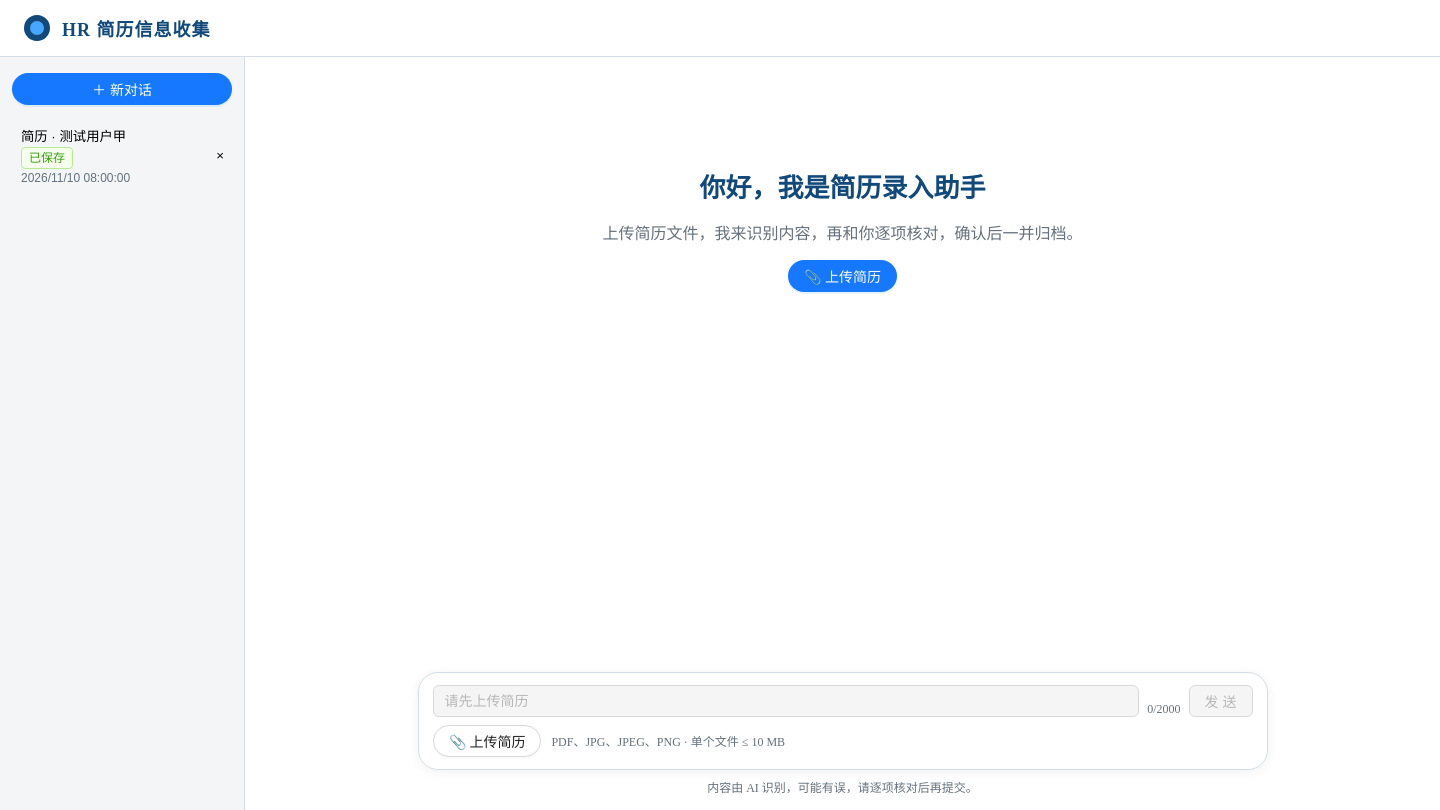
Test: update diff card (REQ-FE-09.2, red line: clears must be listed) › opens from the quick reply without any request and lists the cleared field as "将被清空"
This screenshot has width=1440, height=810.
Click the button "简历 · 测试用户甲 已保存 2026/11/10 08:00:00": (108, 156) [12,117,204,194]
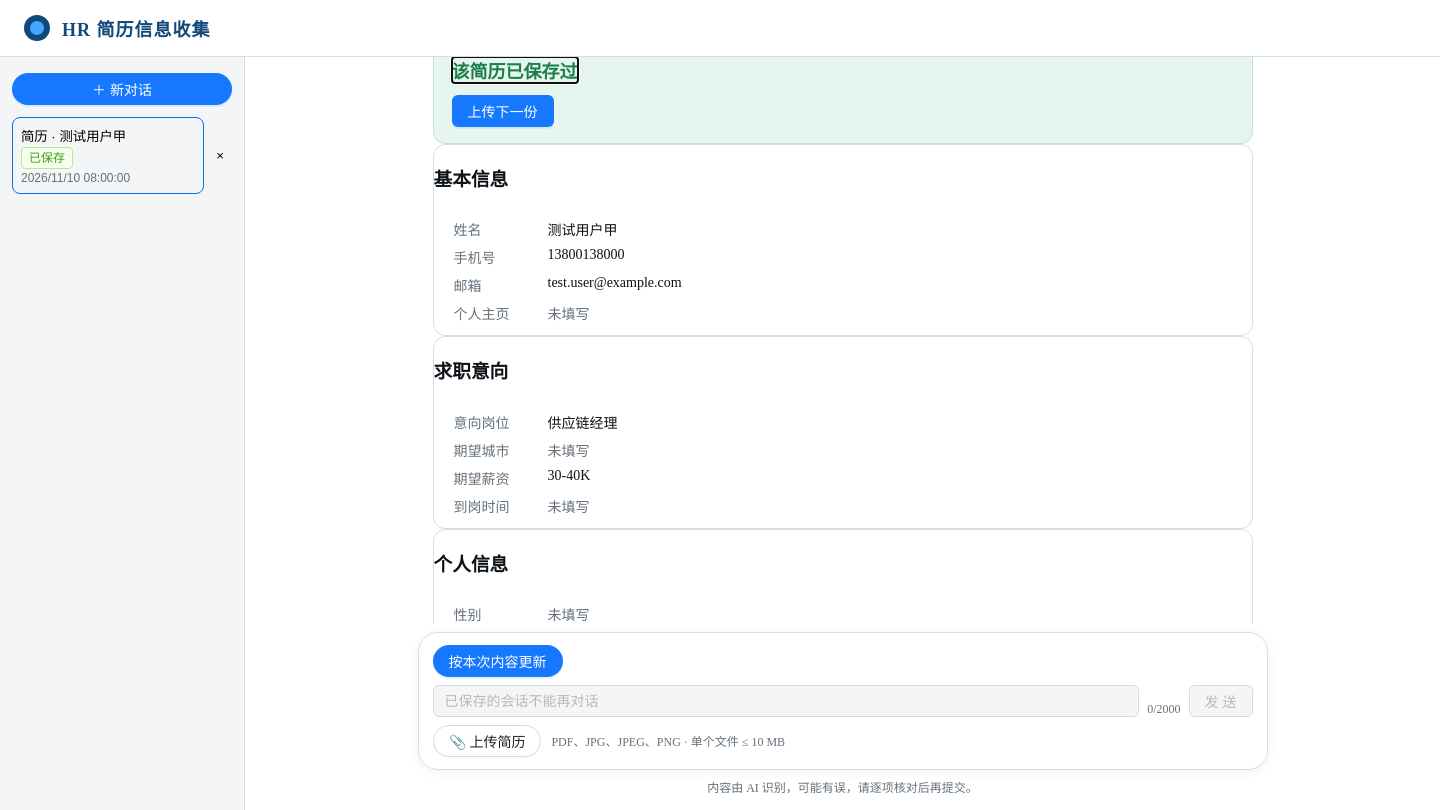
Now the text "该简历已保存过" is shown, box [452,57,578,83]
Click the button "按本次内容更新": (498, 661) [432,645,562,677]
(page scrolled)
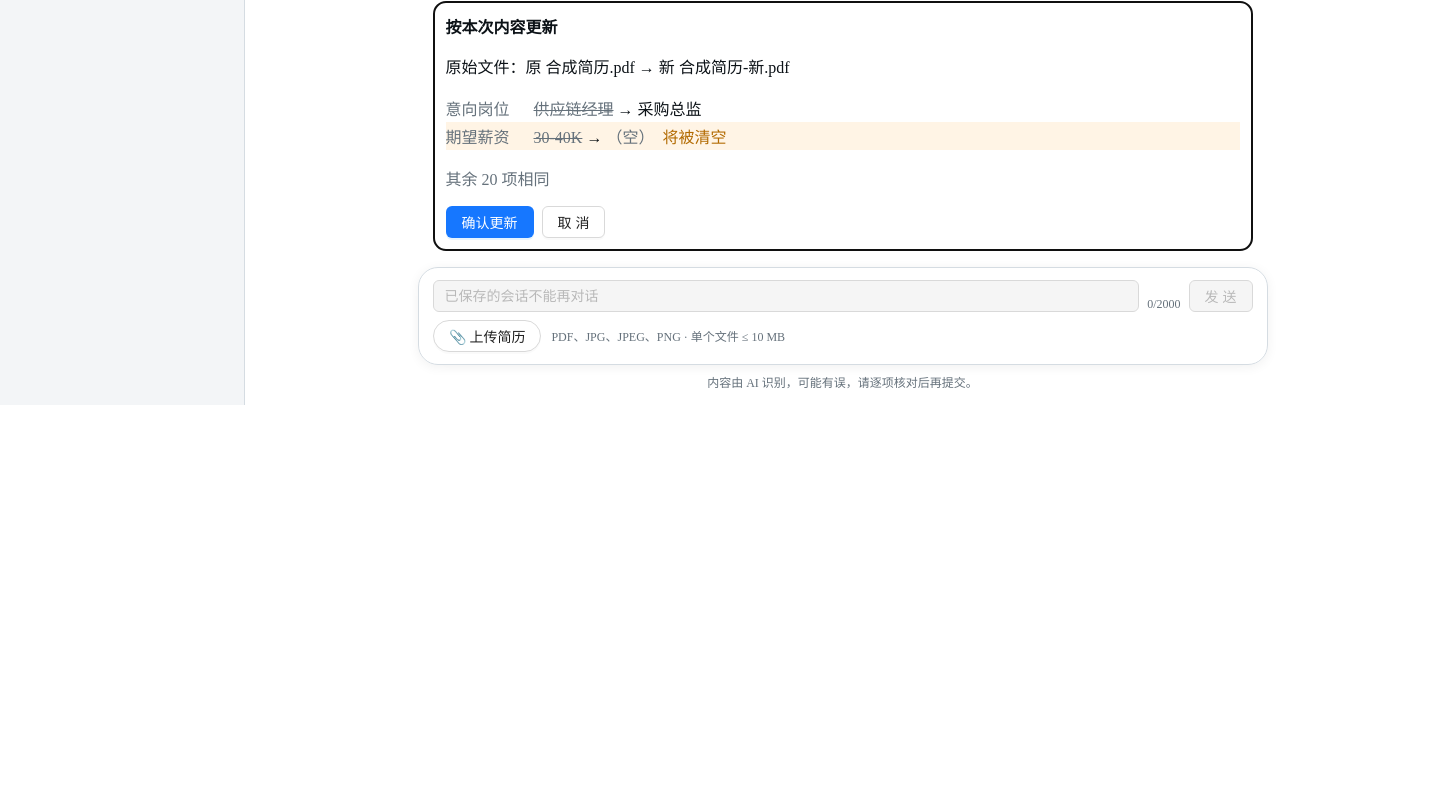
Now the text "原始文件：原 合成简历.pdf → 新 合成简历-新.pdf" is shown, box [446,59,790,76]
Now the text "将被清空" is shown, box [662,129,726,146]
Now the text "采购总监" is shown, box [638,101,702,118]
